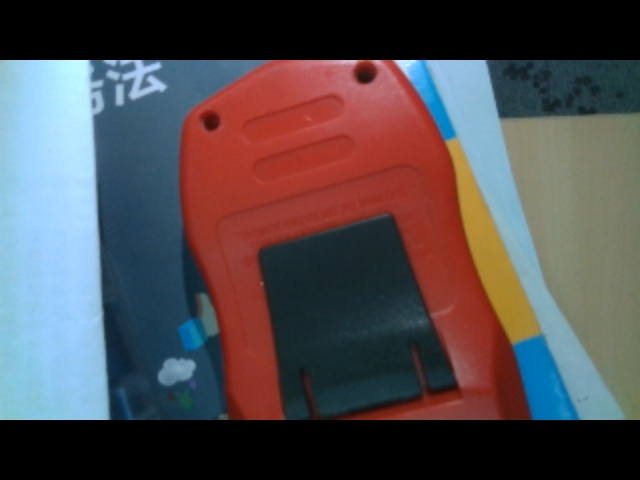Screw holes: (350, 62, 380, 86), (200, 109, 225, 135)
